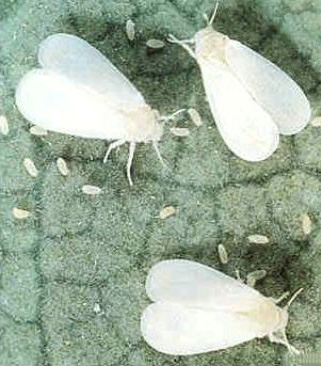whitefly: (14, 31, 186, 186), (166, 1, 311, 163), (141, 257, 304, 359)
